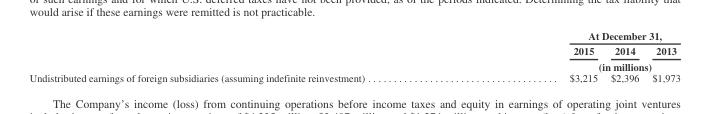table: (28, 28, 679, 83)
table column: (28, 28, 466, 83), (466, 28, 603, 83), (603, 28, 644, 83), (644, 28, 679, 83)
table column header: (28, 28, 679, 71)
table row: (28, 42, 679, 58), (28, 28, 679, 42), (28, 58, 679, 71), (28, 71, 679, 83)
table spanning cell: (466, 28, 679, 42), (466, 58, 679, 71)
